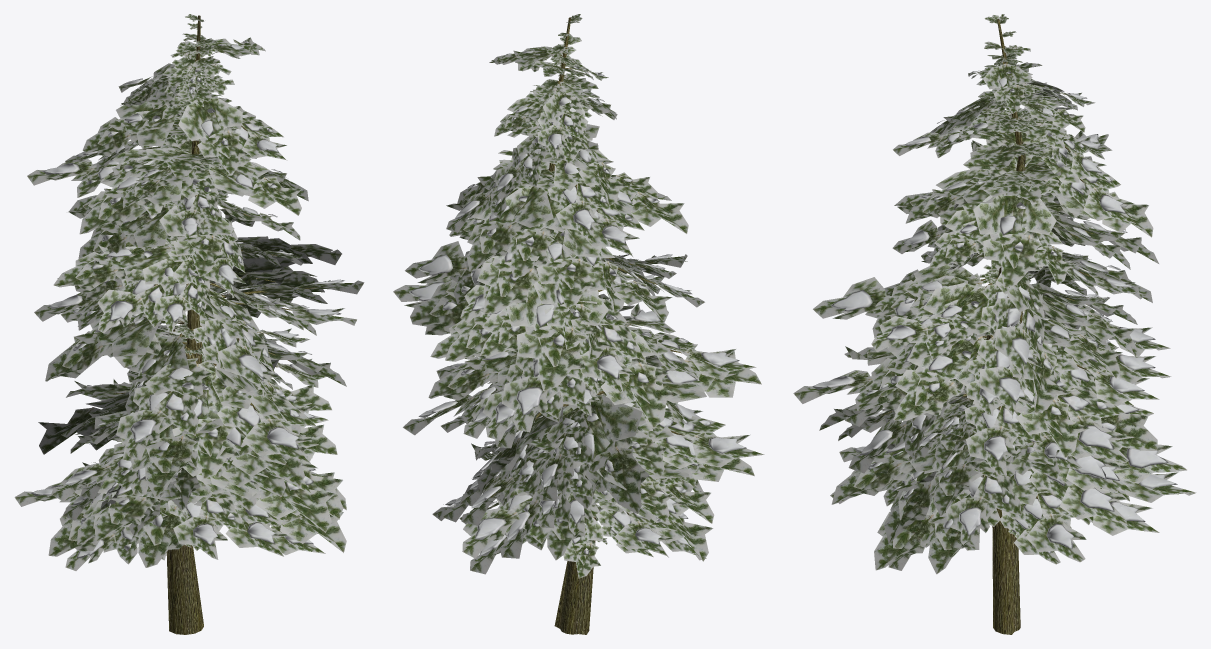
Rendered from hero-trees.glb.
3 renders of one model, left to right at view 1: azimuth 30°, elevation 25°; view 2: azimuth 150°, elevation 25°; view 3: azimuth 270°, elevation 25°, orthographic.
Visible parts, largest first — view 1: Circle.003; view 2: Circle.003; view 3: Circle.003.
Boxes of the visible parts, x1,y1,x2,y2 form: Circle.003: (14,14,364,634); Circle.003: (393,14,764,634); Circle.003: (793,14,1196,634).
Size of the model in its own units: 8.11 by 13.82 by 8.25.
5 materials, 5 textured.
